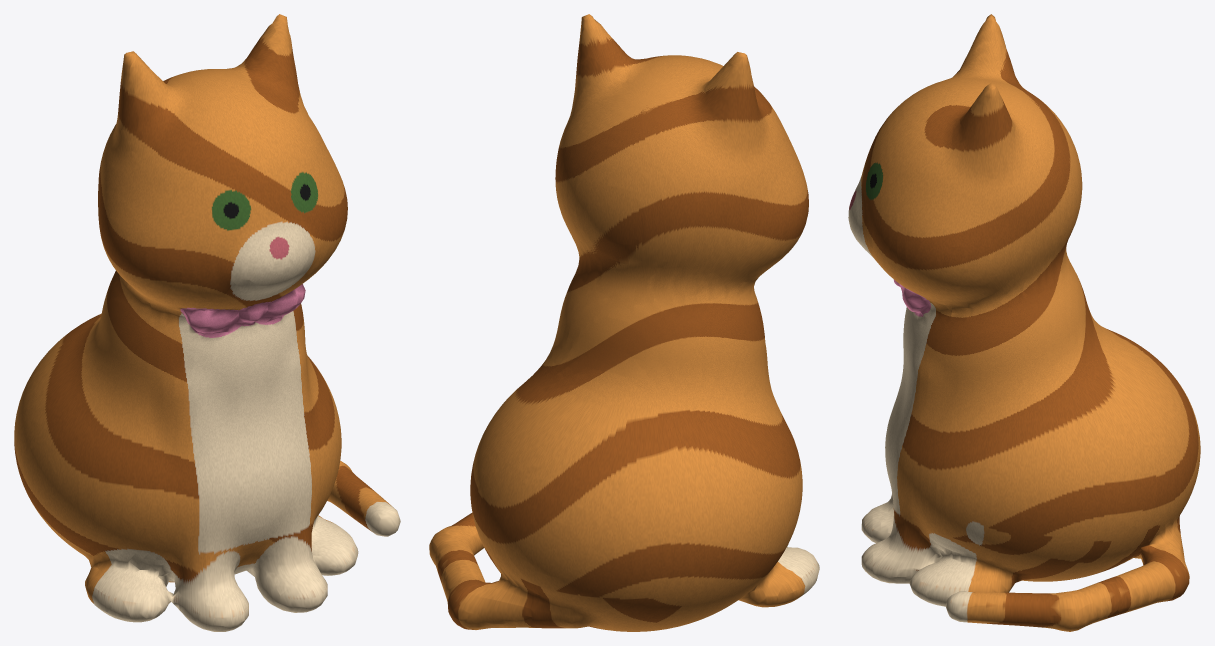
File: gato.obj
3 renders of one model, left to right at view 1: azimuth 30°, elevation 25°; view 2: azimuth 150°, elevation 25°; view 3: azimuth 270°, elevation 25°, orthographic. The views are drawn at different scales.
Parts seen in each view (by area): view 1: gato; view 2: gato; view 3: gato.
Part boxes in pixels (<box>): gato: <box>14,14,400,631</box>; gato: <box>429,14,819,631</box>; gato: <box>848,14,1200,631</box>.
Bounding box in the file's own units: 1.17 × 1.86 × 1.16.
1 material, 1 textured.
